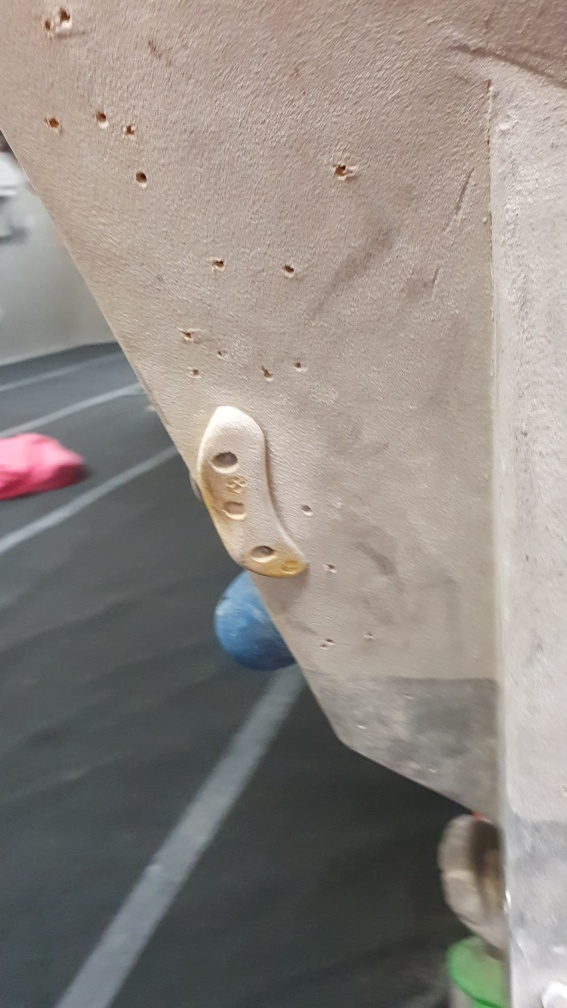Crimp: (188, 402, 309, 582)
